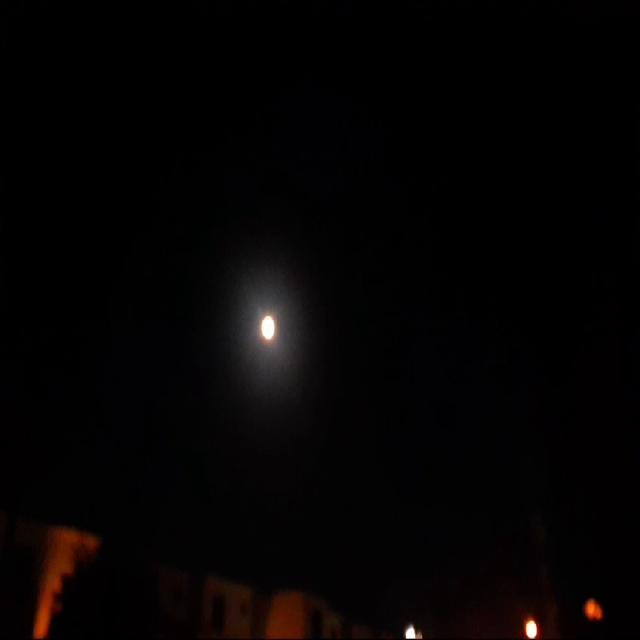moon: (256, 304, 278, 343)
